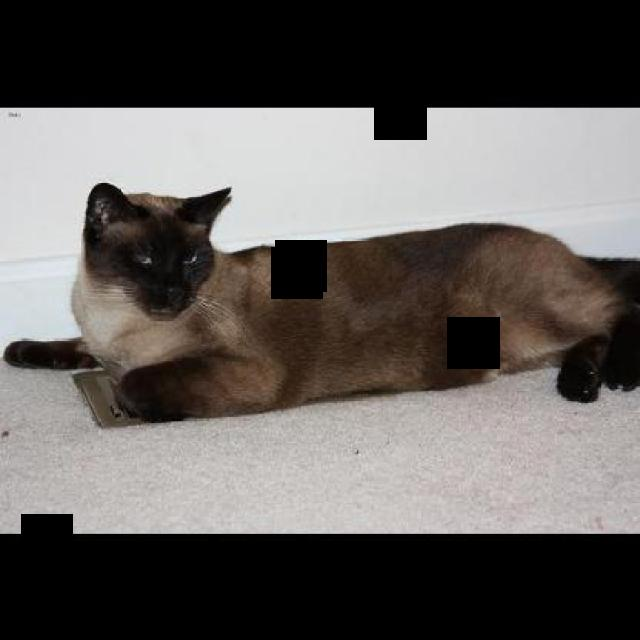unauthorized: (1, 180, 638, 423)
